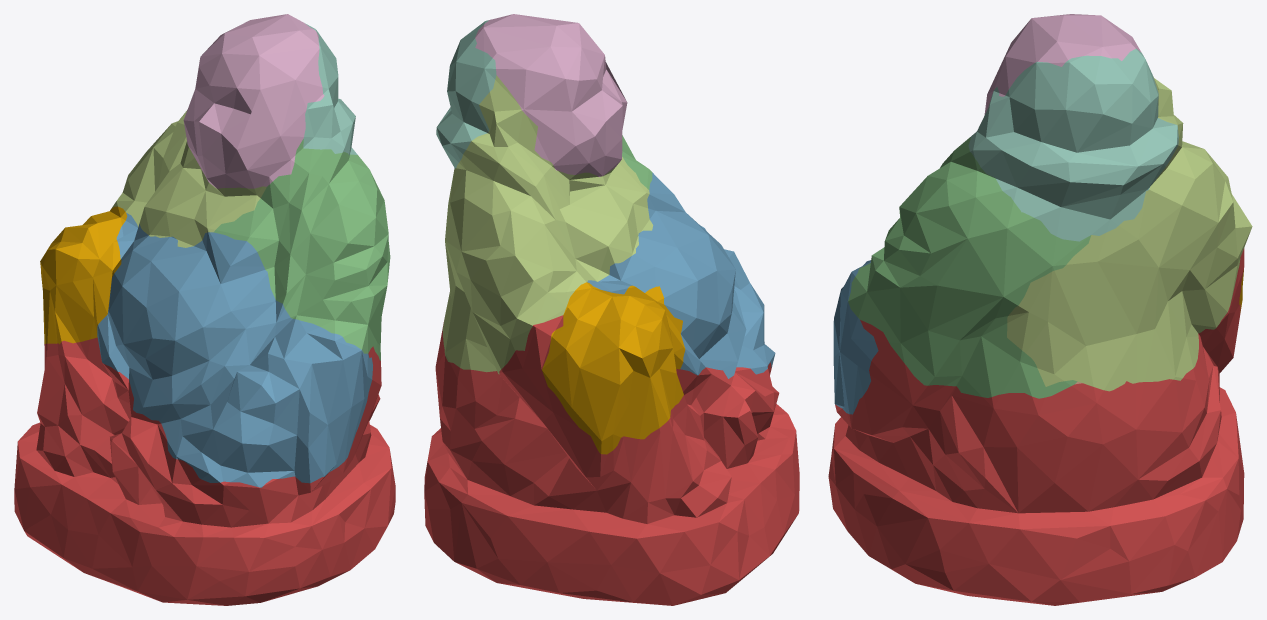
Rendered from mode_13_8pcs.glb.
The picture shows the model from 3 angles, left to right: view 1: azimuth 30°, elevation 25°; view 2: azimuth 150°, elevation 25°; view 3: azimuth 270°, elevation 25°; orthographic projection. The views are drawn at different scales.
Parts seen in each view (by area): view 1: piece_1.obj, piece_2.obj, piece_3.obj, piece_6.obj, piece_5.obj, piece_0.obj, piece_4.obj; view 2: piece_1.obj, piece_5.obj, piece_0.obj, piece_2.obj, piece_6.obj, piece_4.obj, piece_3.obj; view 3: piece_1.obj, piece_5.obj, piece_3.obj, piece_4.obj, piece_6.obj, piece_2.obj.
Boxes of the visible parts, x1,y1,x2,y2 form: piece_1.obj: (14,337,395,605); piece_2.obj: (97,213,372,487); piece_3.obj: (213,139,390,360); piece_6.obj: (183,14,324,188); piece_5.obj: (111,110,266,247); piece_0.obj: (40,206,127,344); piece_4.obj: (303,23,357,155); piece_1.obj: (424,315,799,605); piece_5.obj: (442,75,653,374); piece_0.obj: (542,282,685,454); piece_2.obj: (587,172,775,378); piece_6.obj: (475,14,627,177); piece_4.obj: (436,20,496,168); piece_3.obj: (622,135,652,189); piece_1.obj: (828,248,1244,605); piece_5.obj: (1007,76,1252,391); piece_3.obj: (848,137,1091,398); piece_4.obj: (968,48,1178,241); piece_6.obj: (984,14,1141,114); piece_2.obj: (833,260,878,414).
Bounding box in the file's own units: 0.6824 × 1 × 0.7125.
